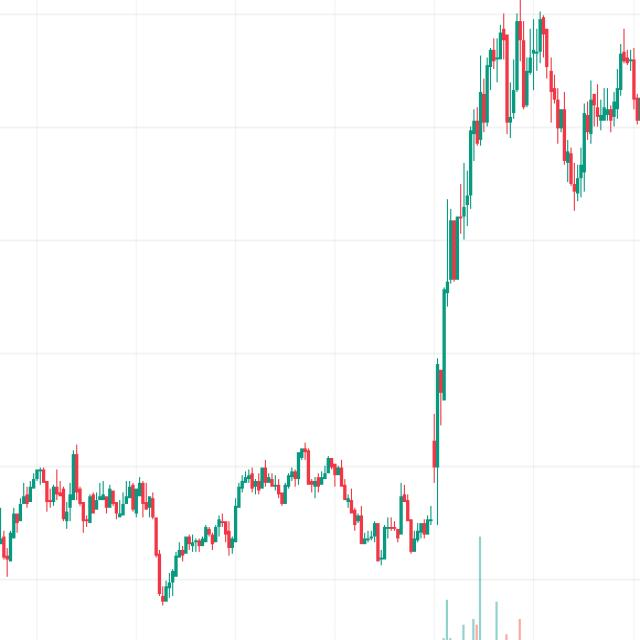Triple-Top: (464, 0, 570, 136)
